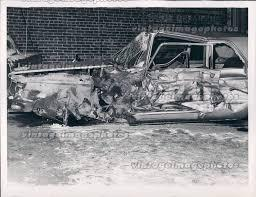Front-Windscreen-Damage: (116, 31, 142, 66)
doorouter-dent: (150, 65, 208, 117)
